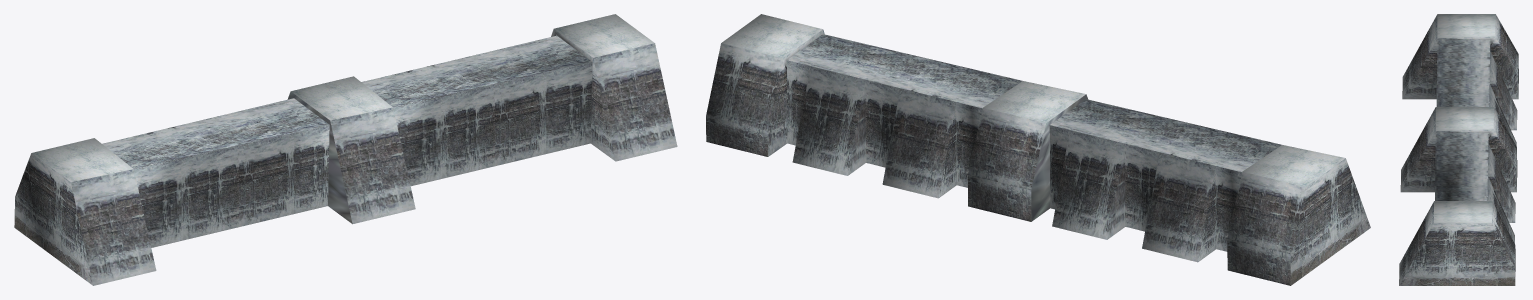
File: S_Build_Snowland180.FBX
3 views of the same model, side by side, from view 1: azimuth 30°, elevation 25°; view 2: azimuth 150°, elevation 25°; view 3: azimuth 270°, elevation 25° (orthographic). The views are drawn at different scales.
Parts seen in each view (by area): view 1: S_Build_Snowland180; view 2: S_Build_Snowland180; view 3: S_Build_Snowland180.
Boxes of the visible parts, bbox=[...] form: S_Build_Snowland180: bbox=[14, 14, 677, 285]; S_Build_Snowland180: bbox=[706, 14, 1370, 285]; S_Build_Snowland180: bbox=[1399, 14, 1518, 285].
Size of the model in its own units: 1552 by 377 by 222.
